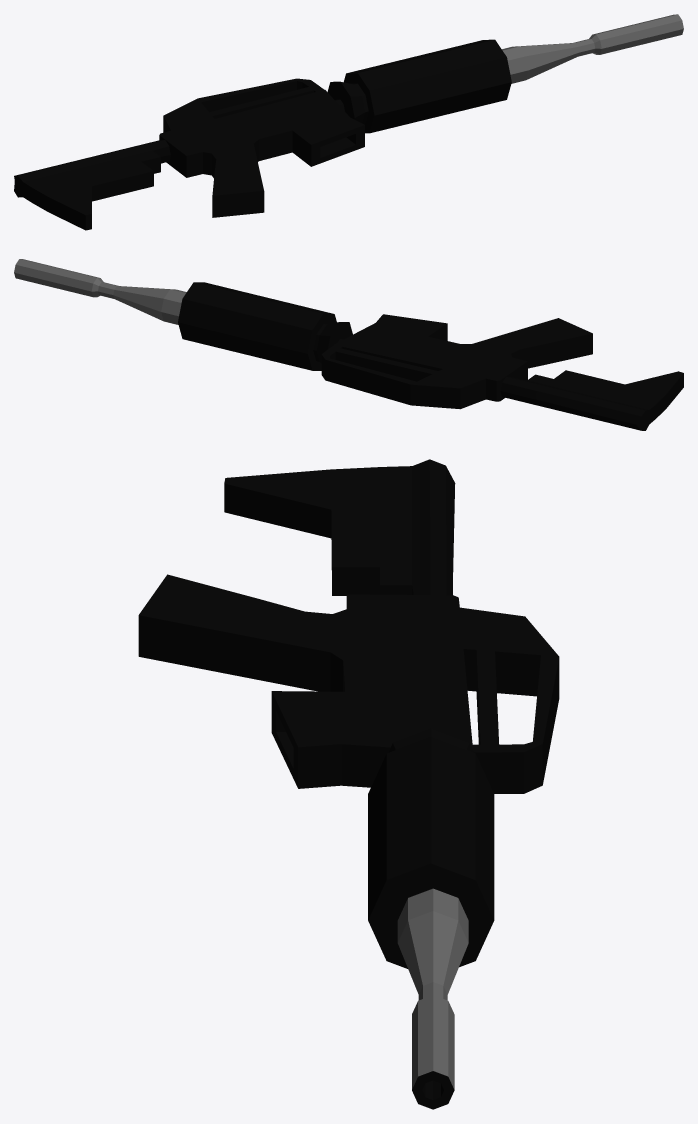
File: M4A1 Remastered.obj
3 renders of one model, top to bottom at view 1: azimuth 30°, elevation 25°; view 2: azimuth 150°, elevation 25°; view 3: azimuth 270°, elevation 25°, orthographic. The views are drawn at different scales.
Visible parts, largest first — view 1: M4A1_Assault_Rifle_Cube.001; view 2: M4A1_Assault_Rifle_Cube.001; view 3: M4A1_Assault_Rifle_Cube.001.
Part boxes in pixels (box(x1,y1,x2,y2)): M4A1_Assault_Rifle_Cube.001: box(14, 14, 683, 230); M4A1_Assault_Rifle_Cube.001: box(14, 259, 683, 430); M4A1_Assault_Rifle_Cube.001: box(138, 459, 559, 1109).
Bounding box in the file's own units: 4.85 × 0.4233 × 1.41.
